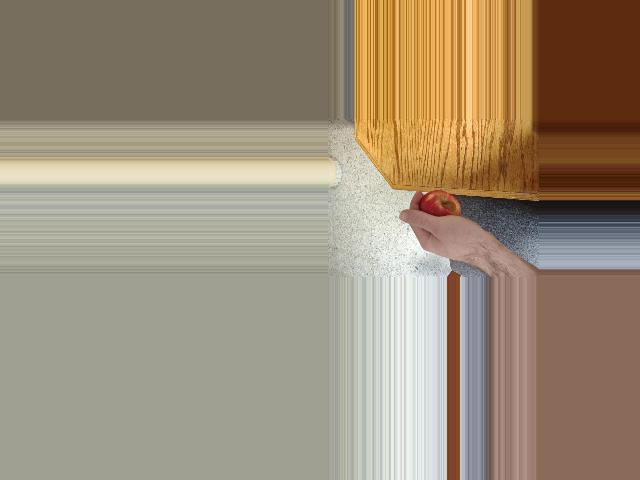apple: (417, 190, 461, 229)
